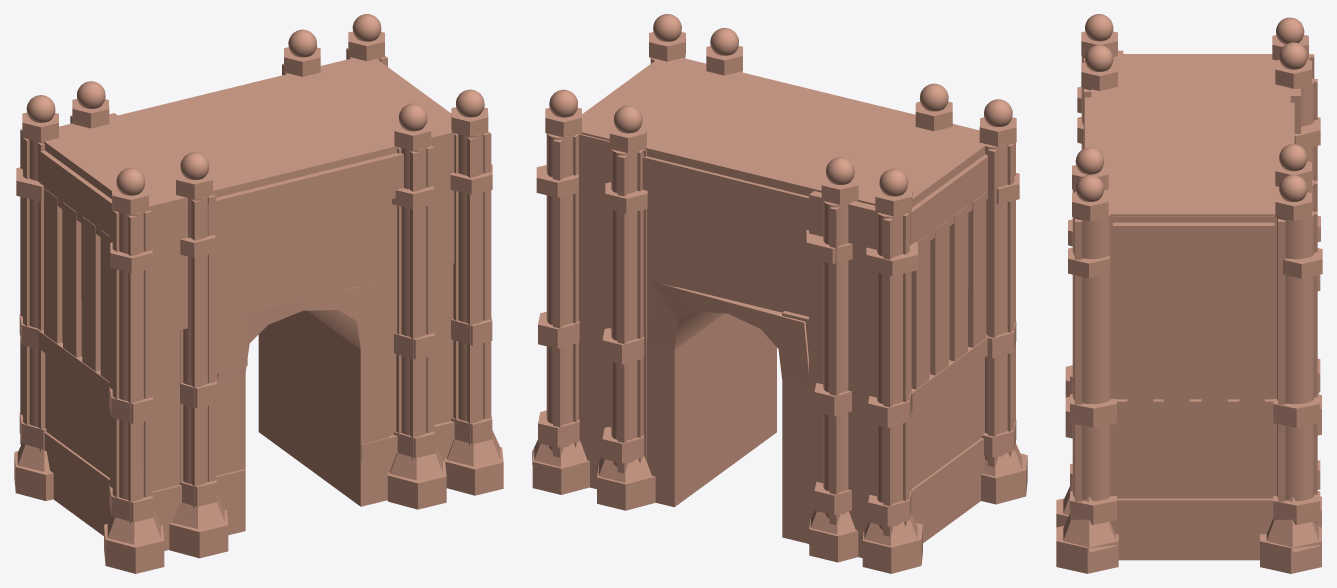
The model's file is arc-de-triomf.glb.
The picture shows the model from 3 angles, left to right: view 1: azimuth 30°, elevation 25°; view 2: azimuth 150°, elevation 25°; view 3: azimuth 270°, elevation 25°; orthographic projection.
Parts seen in each view (by area): view 1: pCube5_lambert1_0; view 2: pCube5_lambert1_0; view 3: pCube5_lambert1_0.
Boxes of the visible parts, <box> form: pCube5_lambert1_0: <box>14,14,503,573</box>; pCube5_lambert1_0: <box>532,14,1027,573</box>; pCube5_lambert1_0: <box>1056,14,1322,573</box>.
Bounding box in the file's own units: 0.1176 × 0.1114 × 0.0701.
